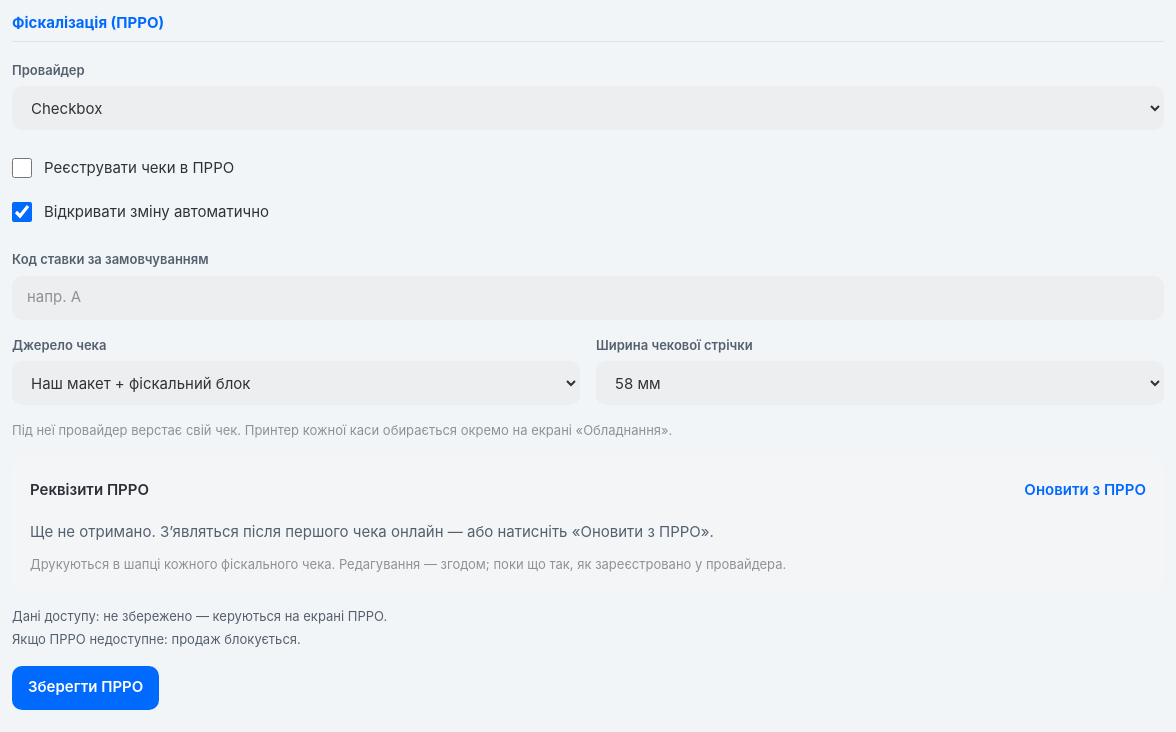
FiscalSettingsCard › allows enabling once a provider, an adapter and a key are all present
The width and height of the screenshot is (1176, 732).
Click the checkbox labelled "Реєструвати чеки в ПРРО" at (22, 168), box [12, 158, 32, 178]
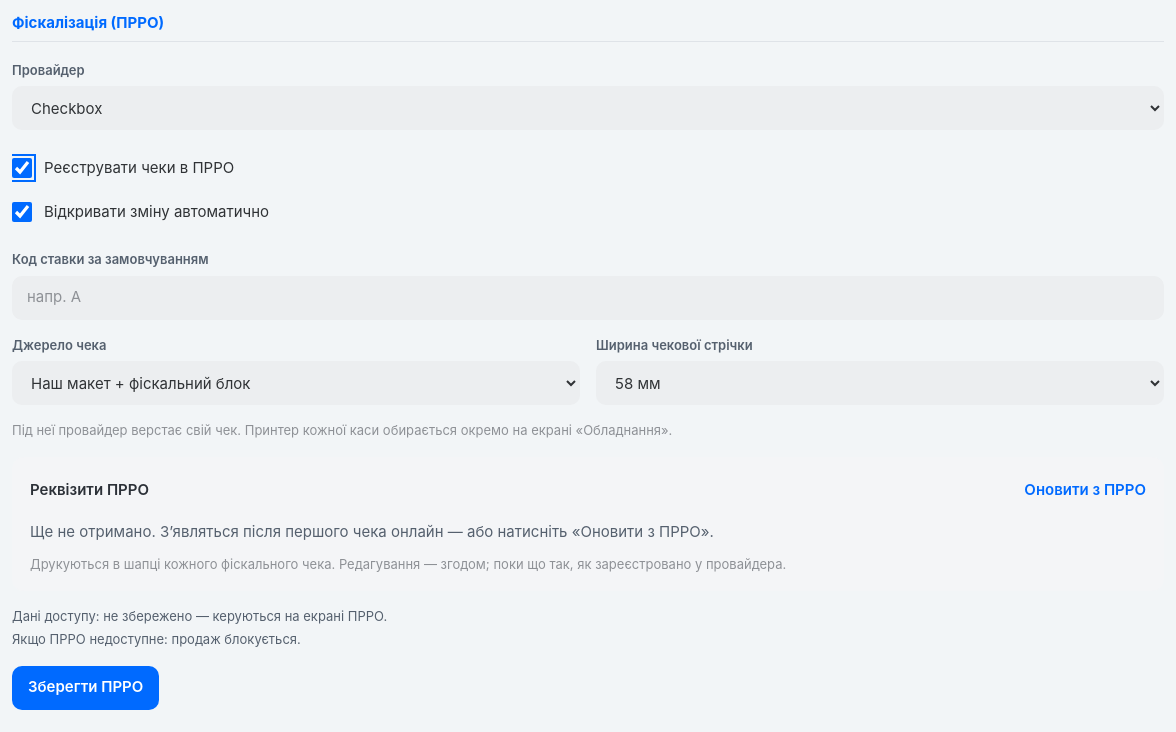
Click the button "Зберегти ПРРО" at (86, 688), box [12, 666, 159, 710]
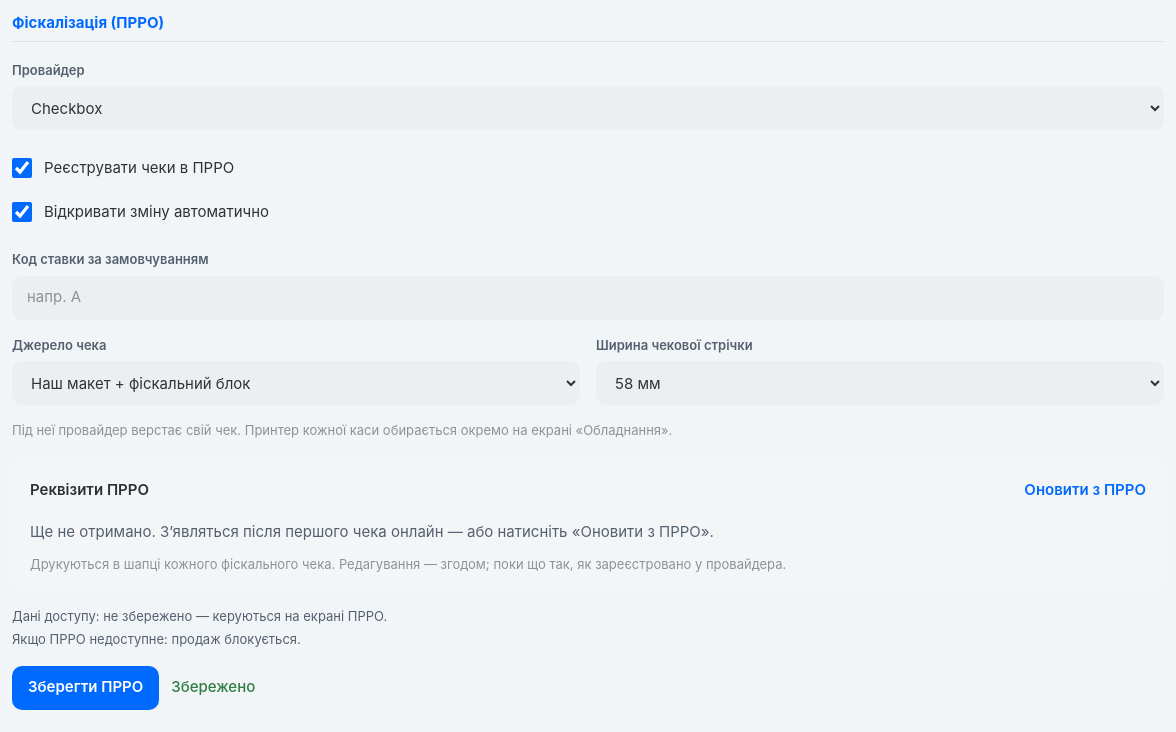
expect the text "Збережено" is shown: met, box [171, 676, 255, 699]
